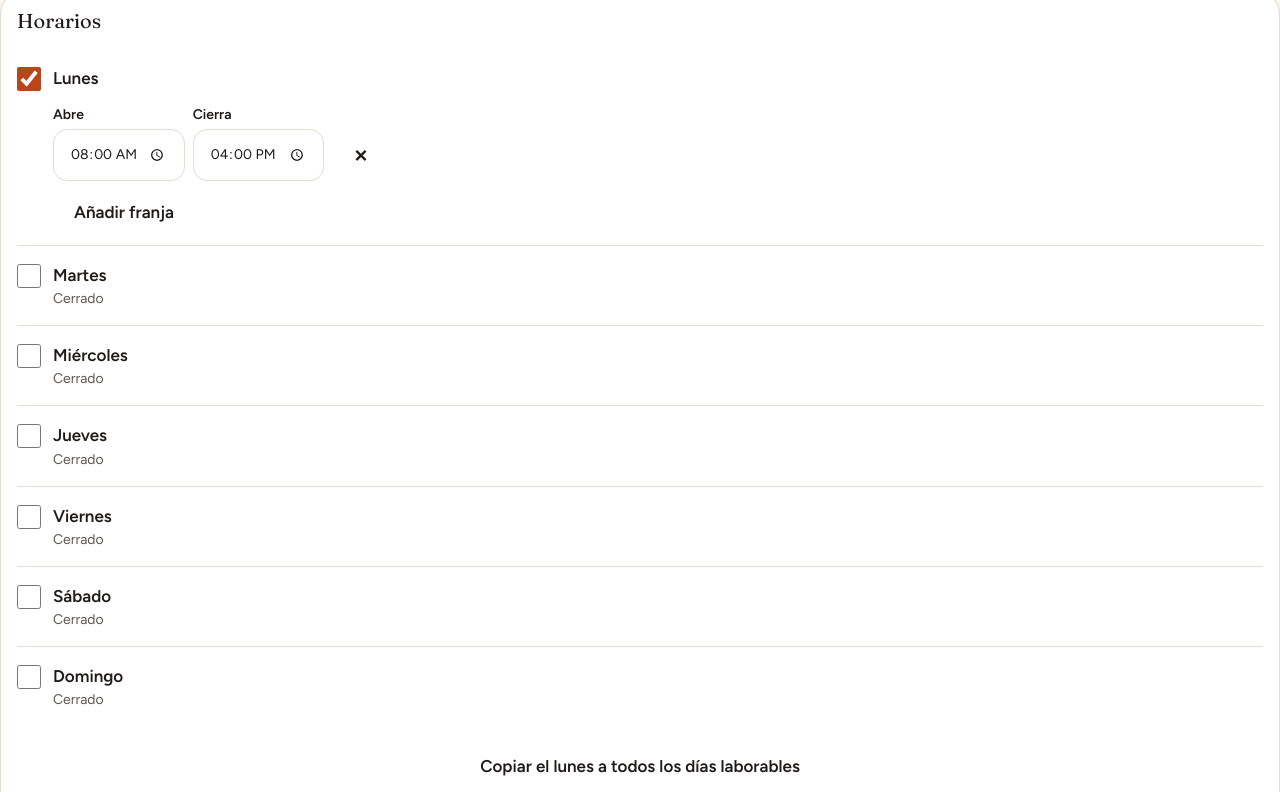
Test case: EditorHorarios › copiar el lunes a los laborables y guardar envía FranjaHoraria[]
What coordinates should you click on to do the following:
click the button "Copiar el lunes a todos los días laborables"
I would click on:
 (640, 766)
Its box is [17,742,1263,790].
(page scrolled)
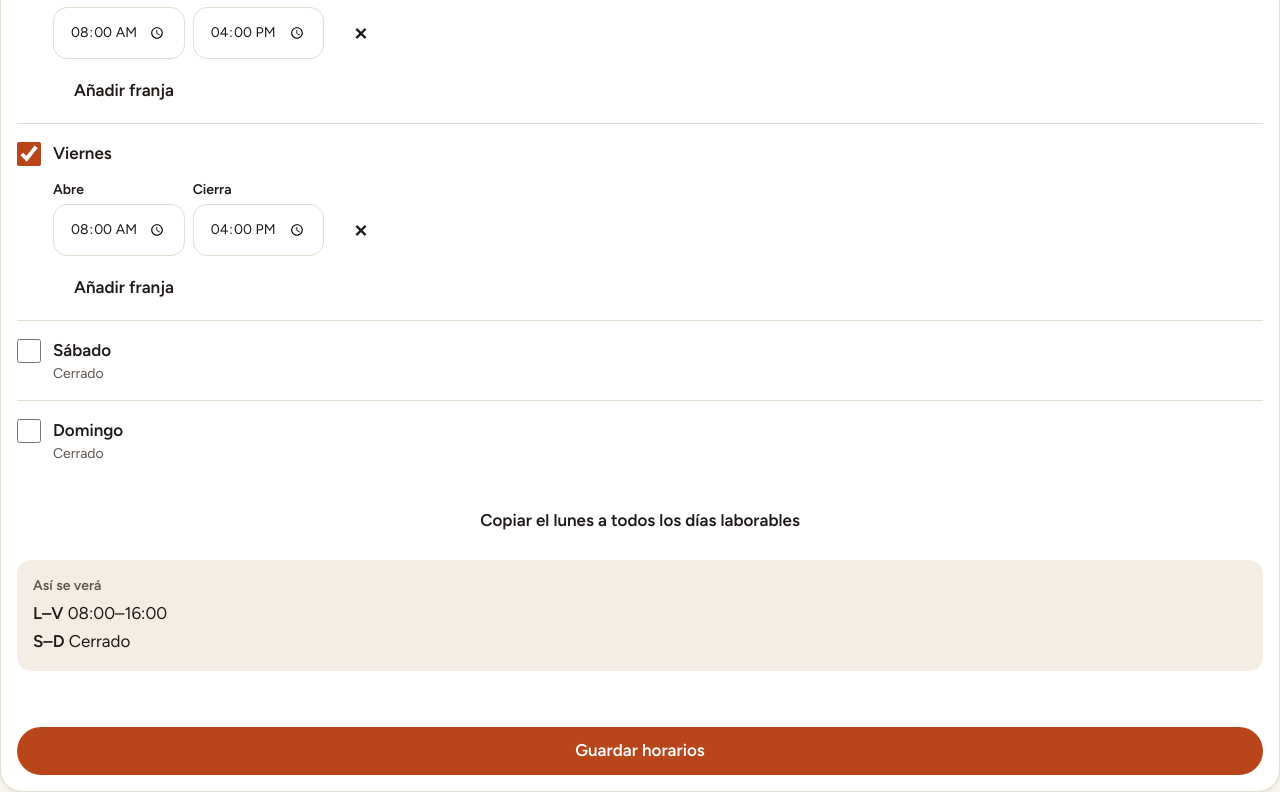
What coordinates should you click on to do the following:
click the button "Guardar horarios"
I would click on:
 (640, 751)
Its box is [17,727,1263,775].
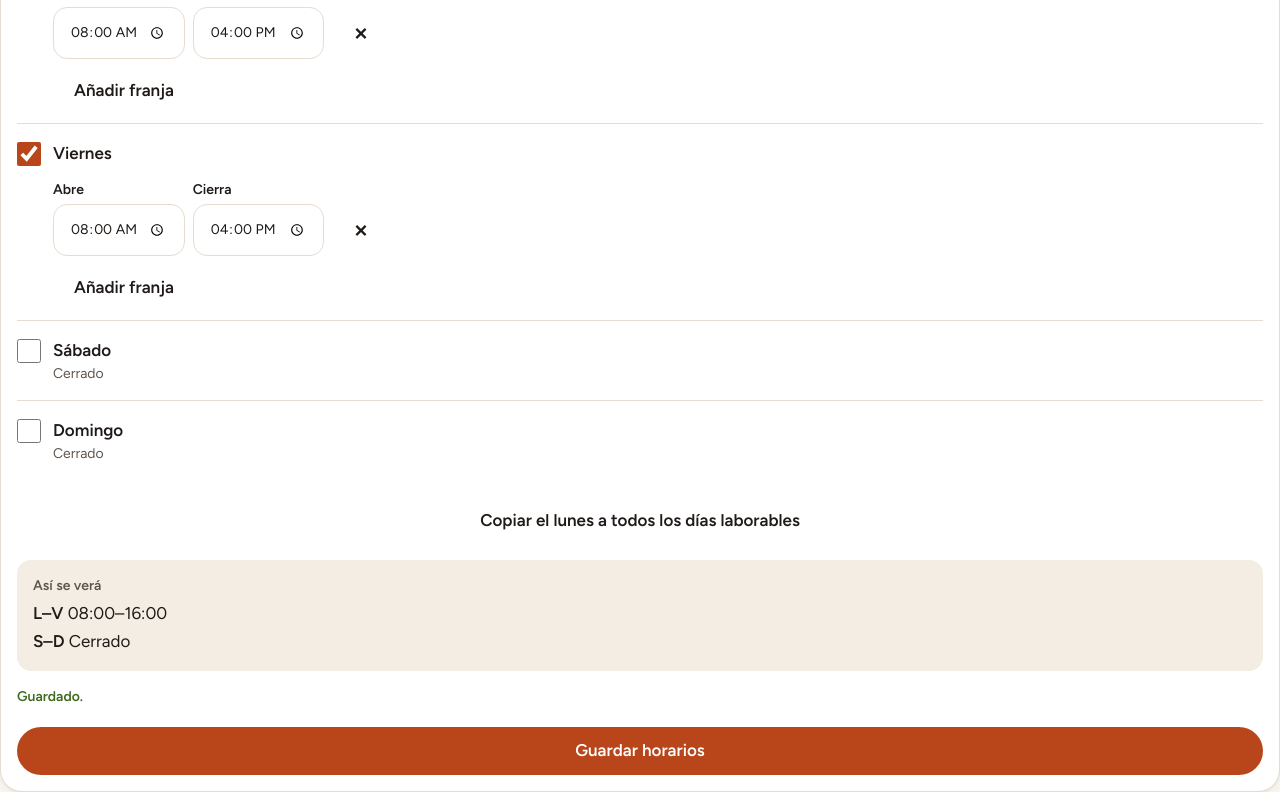
Expected: the text "Guardado." is shown, [17,688,83,705]
